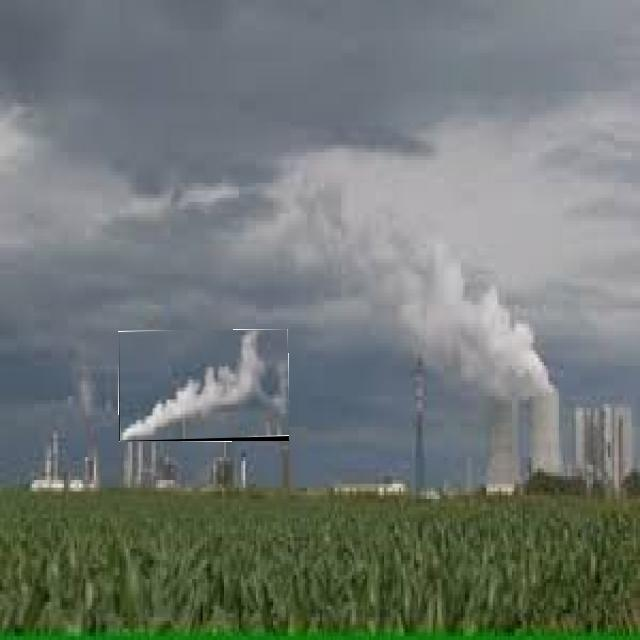smoke: (300, 185, 420, 339), (123, 334, 286, 436), (431, 260, 555, 390)
